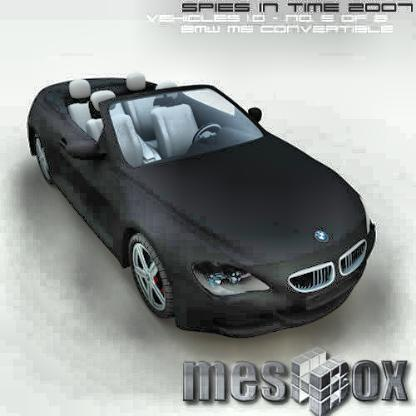BMW M6 Convertible 2010: (27, 73, 380, 342)
